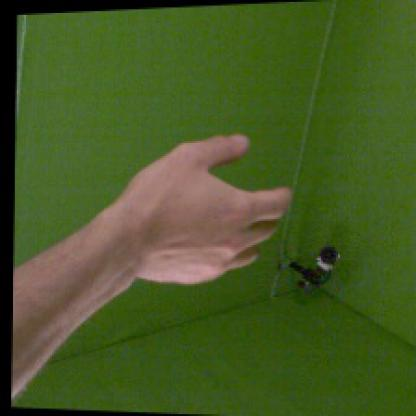Hand: (116, 130, 294, 287)
